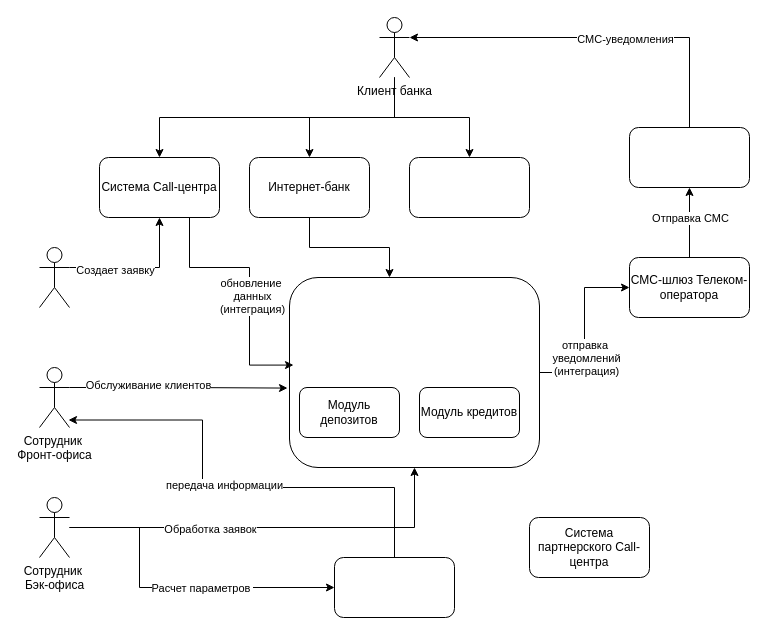
Some shapes in this 767 by 635 pixel diagram are drawn without their labels. Each missing label, with the box of its shape:
Excel, Email: (334, 556, 454, 618)
АБС: (288, 276, 540, 468)
Сайт: (408, 156, 530, 218)
Сотрудник Call-центра: (38, 246, 70, 308)
Телеком-оператор: (628, 126, 750, 188)
